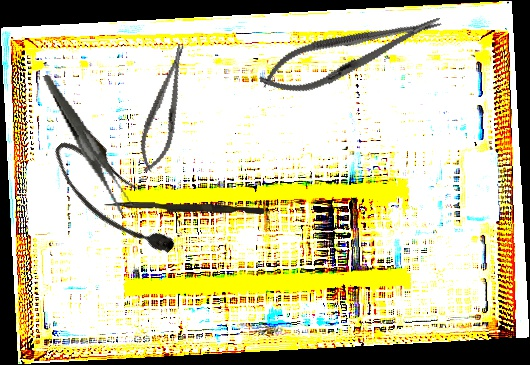Cannula: (44, 123, 184, 274)
Dressing Forceps: (42, 62, 135, 224)
Needle Holder: (253, 0, 449, 106), (132, 40, 198, 177)
Pusher: (103, 201, 265, 215)
